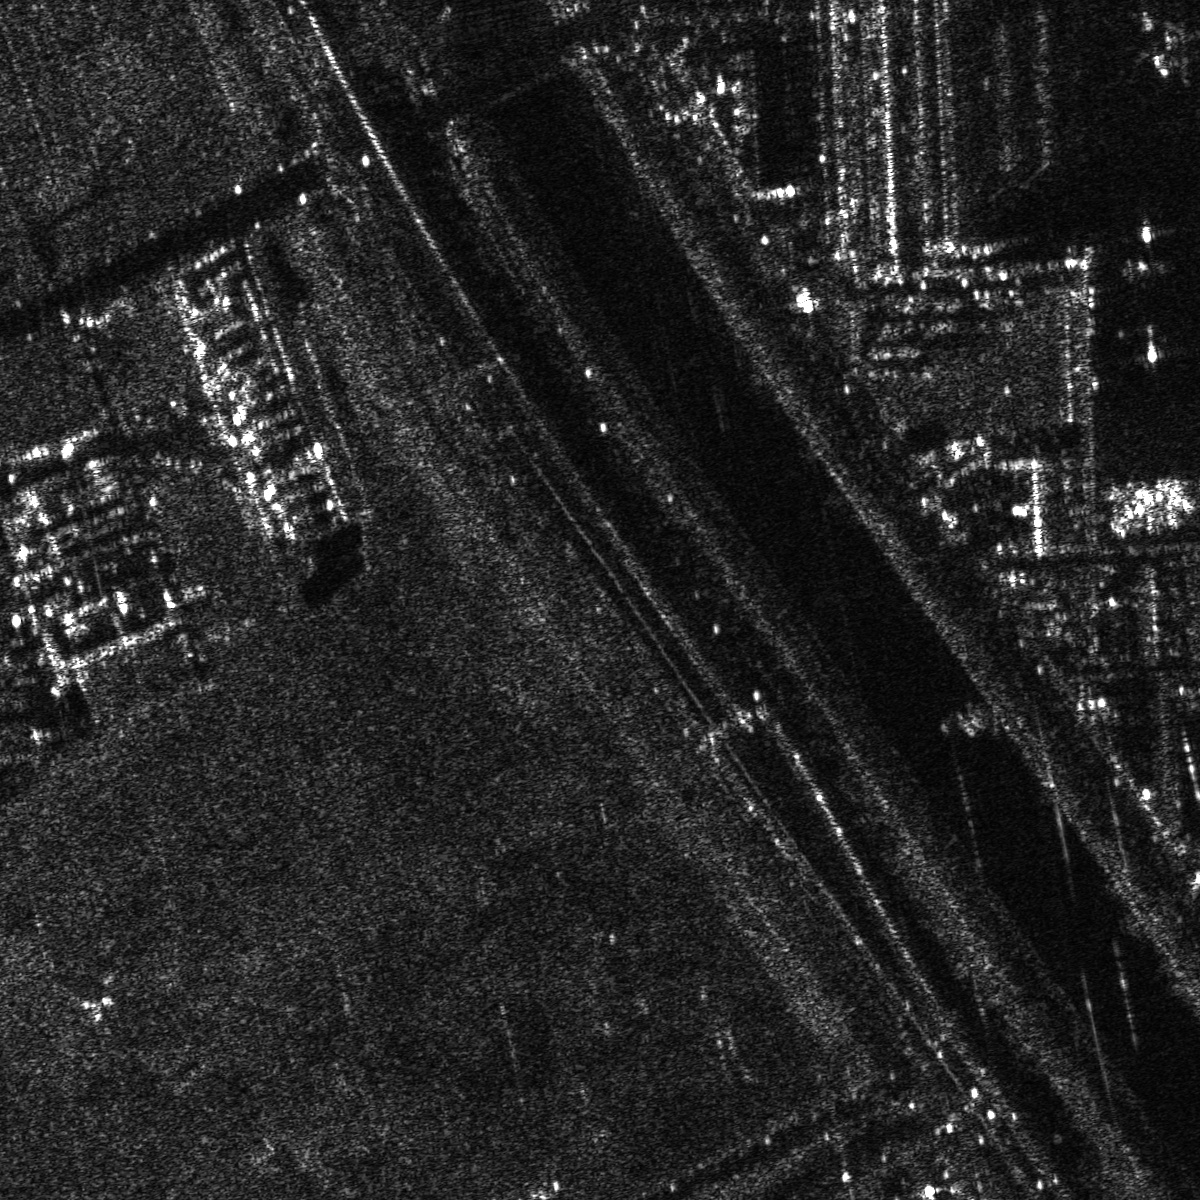A220: (1134, 1, 1199, 95)
other: (1130, 474, 1188, 540)
